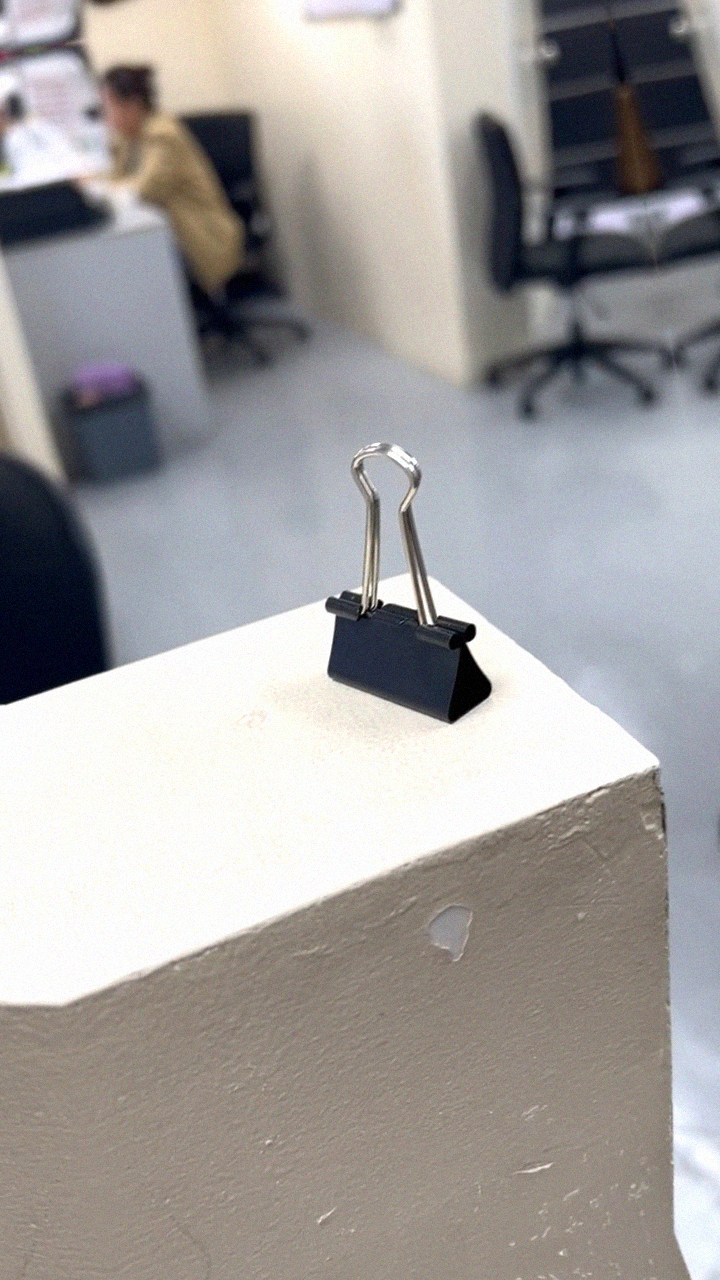kep_giay: (283, 426, 502, 748)
